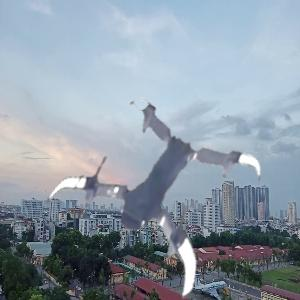drone: (51, 103, 248, 300)
